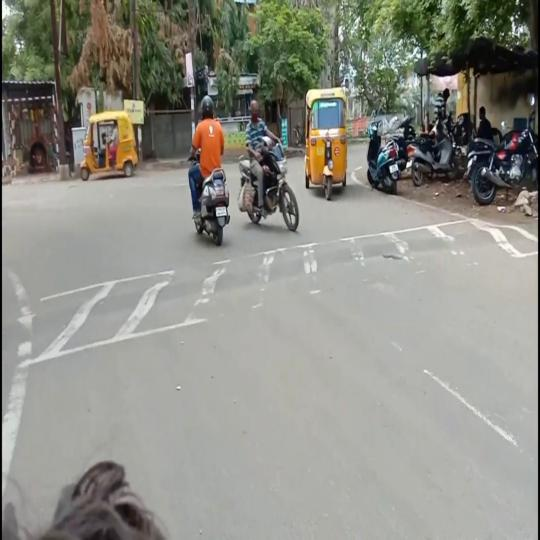Speed Bump: (3, 246, 322, 349), (323, 225, 524, 275)
